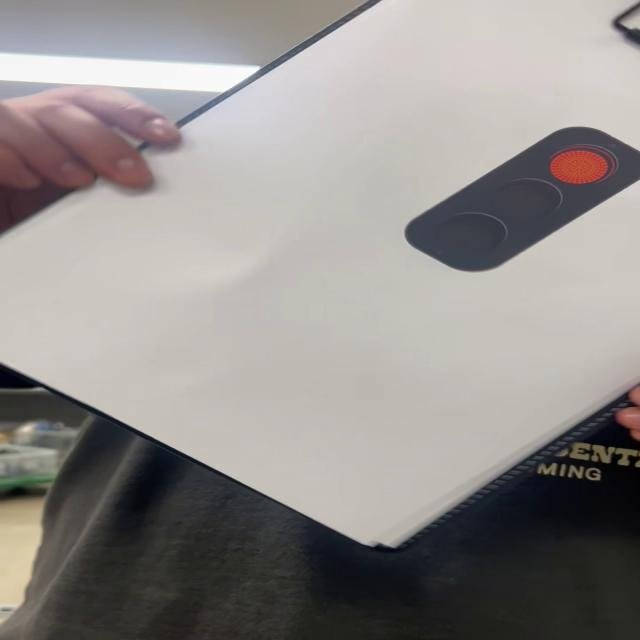red: (403, 124, 640, 275)
